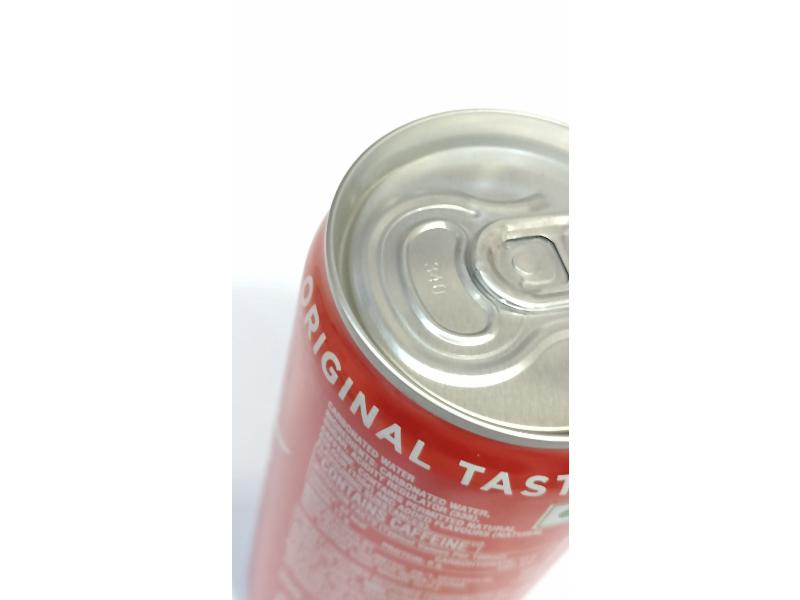can: (249, 99, 571, 582)
